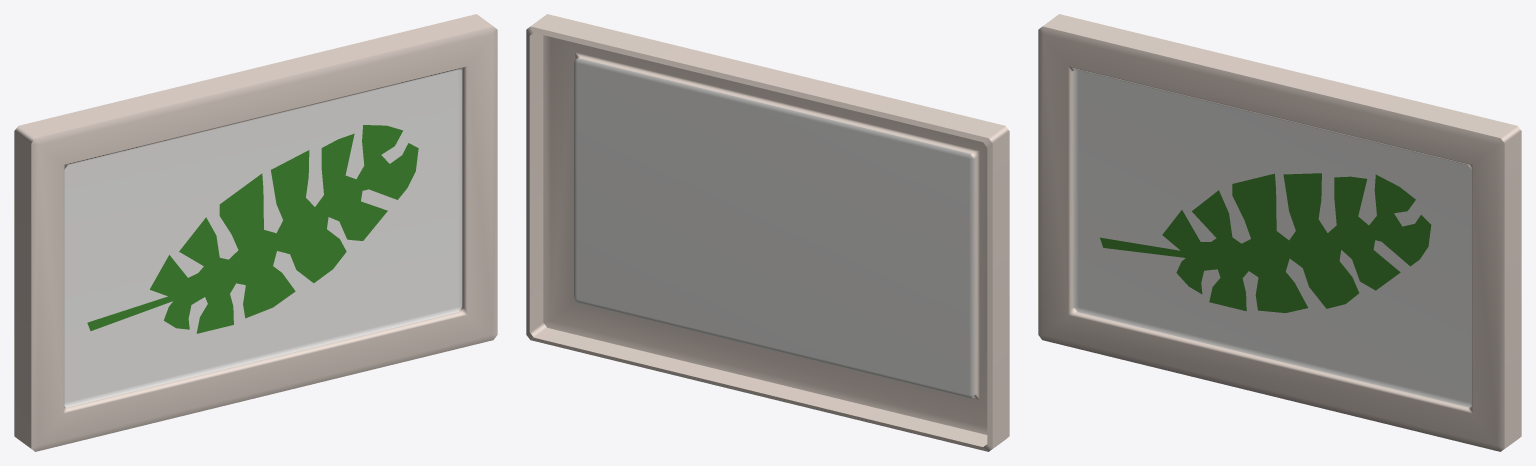
The model's file is Painting_3.glb.
The picture shows the model from 3 angles, left to right: view 1: azimuth 30°, elevation 25°; view 2: azimuth 150°, elevation 25°; view 3: azimuth 330°, elevation 25°; orthographic projection.
Visible parts, largest first — view 1: Painting_3; view 2: Painting_3; view 3: Painting_3.
Boxes of the visible parts, left/top/right/bottom form: Painting_3: left=14, top=14, right=497, bottom=451; Painting_3: left=526, top=14, right=1009, bottom=451; Painting_3: left=1038, top=14, right=1521, bottom=451.
Bounding box in the file's own units: 1.85 × 1.19 × 0.1309.
Materials: 1 (1 with a texture image).
